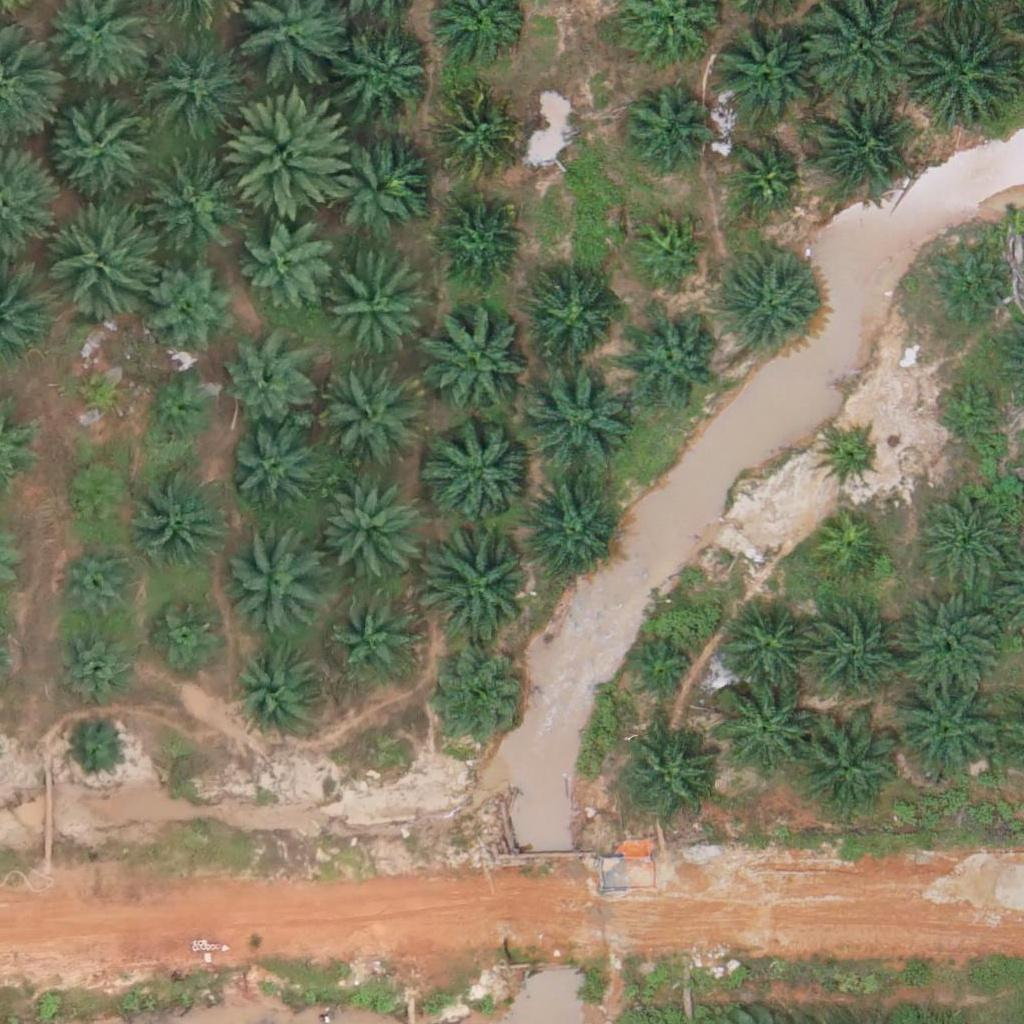Kelapa_Sawit: (229, 93, 354, 219), (903, 17, 1016, 131), (892, 586, 1005, 699), (889, 674, 1002, 787), (791, 713, 904, 826), (520, 359, 633, 472), (421, 303, 534, 416), (425, 414, 538, 527), (137, 31, 250, 144), (44, 86, 157, 199), (424, 526, 536, 639), (42, 204, 154, 317), (711, 22, 811, 123), (802, 608, 902, 709), (717, 599, 817, 700), (519, 480, 619, 581), (619, 725, 719, 826), (427, 653, 527, 754), (338, 23, 438, 124), (324, 260, 424, 361), (319, 372, 419, 473), (315, 480, 415, 581), (141, 152, 241, 253), (143, 253, 243, 354), (134, 467, 234, 568), (809, 97, 909, 197), (719, 257, 819, 357), (917, 490, 1017, 590), (712, 679, 812, 779), (625, 310, 725, 410), (323, 130, 423, 230), (226, 532, 326, 632), (922, 244, 1010, 332), (619, 82, 707, 170), (530, 277, 618, 365), (430, 88, 518, 176), (223, 340, 311, 428), (48, 623, 136, 711), (226, 427, 313, 516), (433, 196, 520, 284), (333, 598, 420, 686), (235, 647, 322, 735), (241, 220, 328, 308), (58, 542, 145, 630), (142, 373, 217, 449), (631, 213, 706, 289), (61, 460, 136, 536), (149, 595, 224, 670), (726, 139, 801, 214), (934, 375, 1009, 450), (810, 513, 885, 588), (625, 637, 700, 712), (819, 426, 882, 489), (65, 717, 127, 780), (68, 361, 130, 424)
